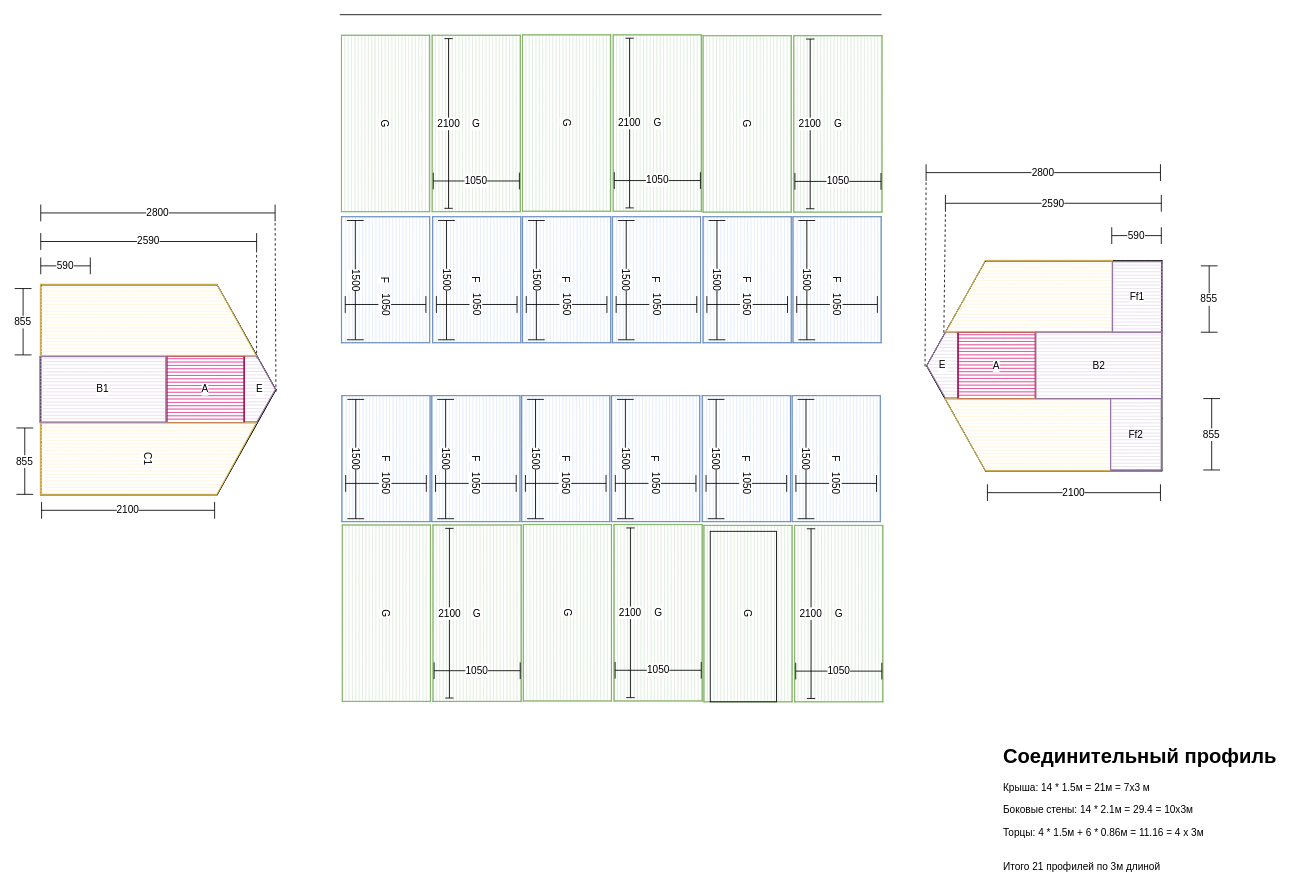
The diagram is 1311 pixels wide and 896 high, and some of its shapes have lost their labels. Each missing label, with the centre of its shape:
"C2" goes at [148,320].
"D1" goes at [1028,296].
"D2" goes at [1027,434].
"Двкрь" goes at [743,616].
